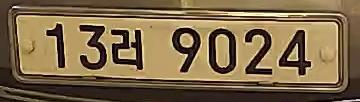0: (204, 26, 241, 76)
1: (44, 19, 72, 73)
2: (240, 25, 277, 78)
3: (74, 19, 109, 72)
4: (275, 27, 318, 78)
9: (166, 23, 205, 76)
러: (108, 25, 149, 74)
